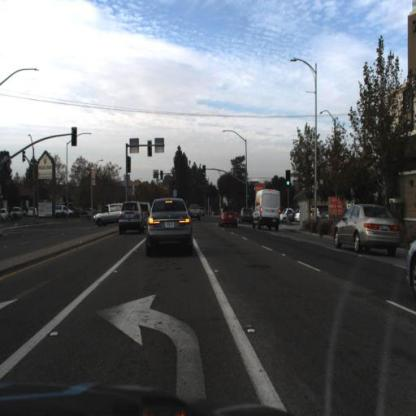car: (330, 204, 401, 255), (333, 204, 403, 255), (145, 199, 192, 252), (119, 201, 146, 237), (218, 204, 241, 232), (122, 203, 143, 231), (217, 207, 241, 231), (95, 202, 120, 224), (408, 229, 416, 295), (188, 199, 202, 222), (190, 203, 204, 223), (141, 204, 151, 225), (240, 207, 252, 222), (93, 209, 103, 222), (122, 210, 130, 218)
trafficLight: (71, 127, 79, 149), (146, 142, 153, 158), (128, 158, 132, 172)
trafficLight-Green: (201, 166, 209, 181), (286, 169, 291, 187), (173, 177, 178, 191), (162, 171, 165, 180)
truck: (255, 190, 286, 233), (254, 191, 282, 231)
